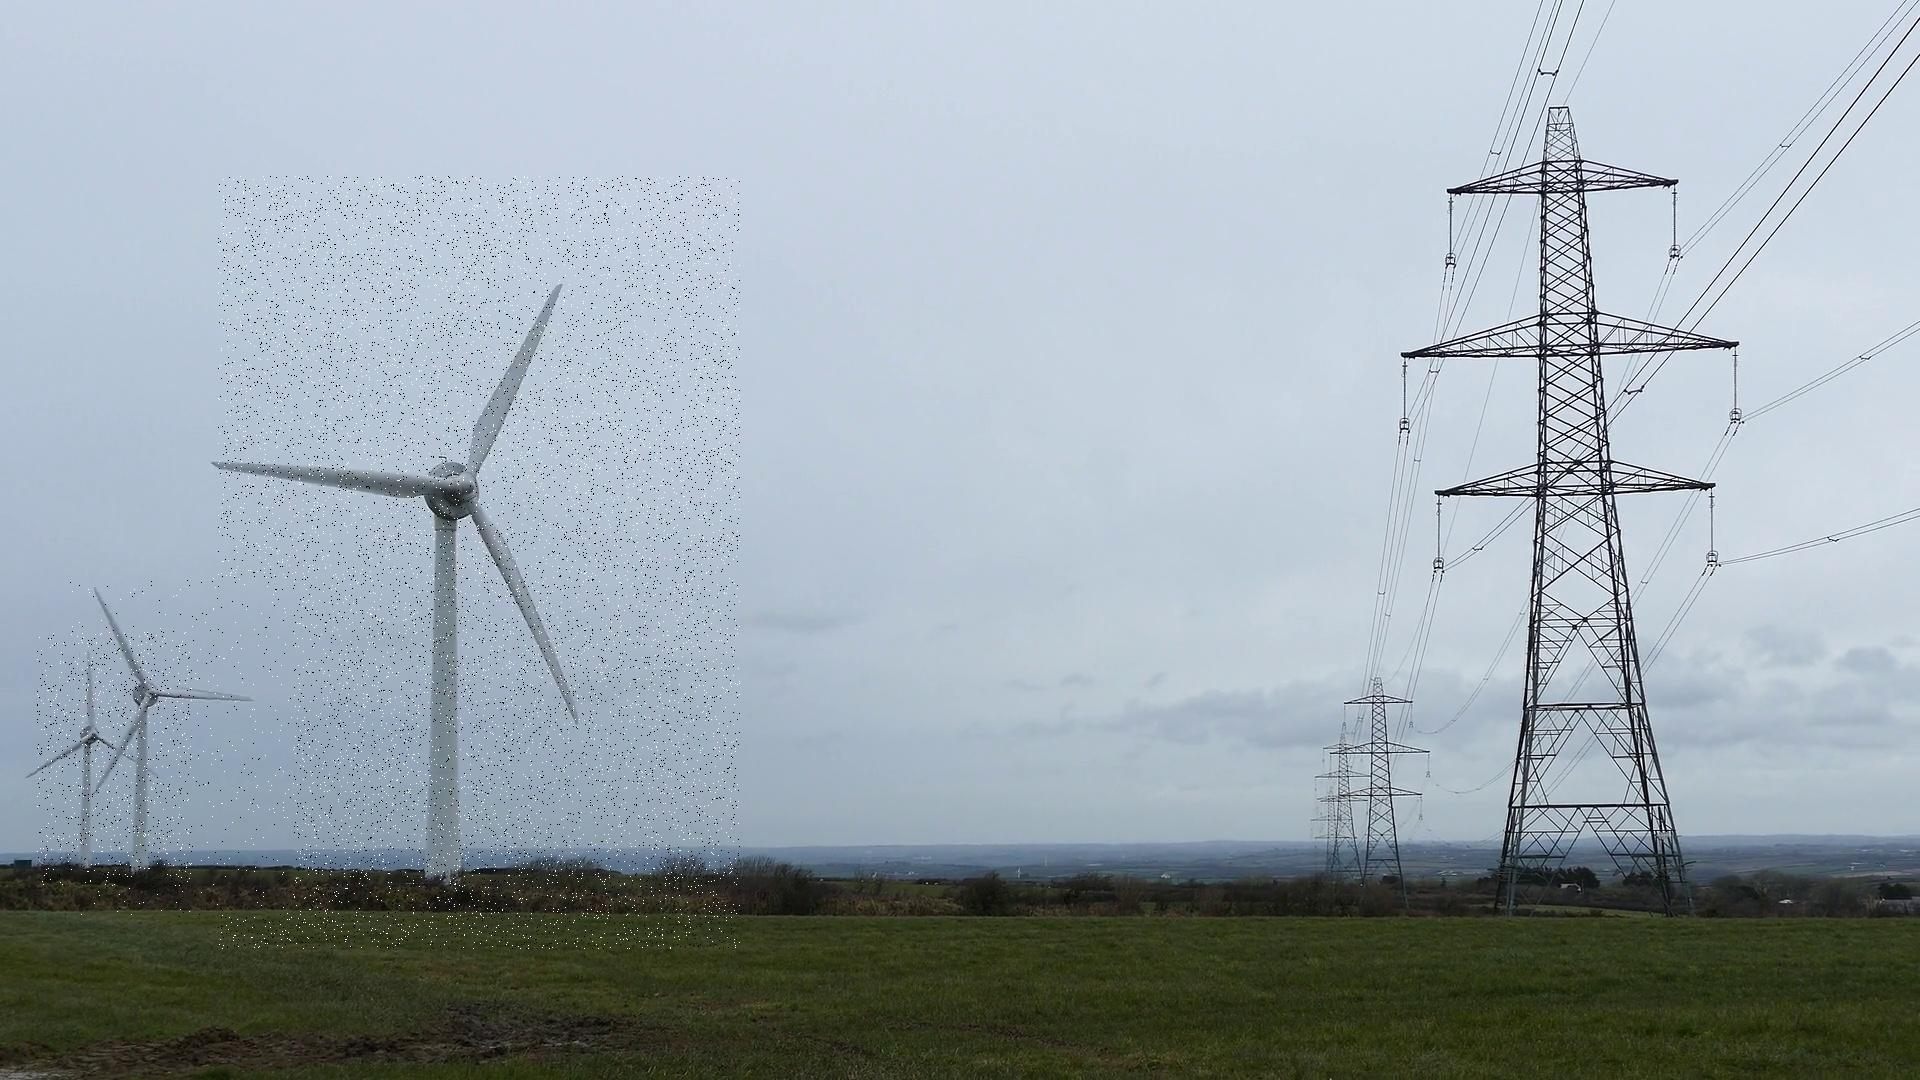cable tower: (1395, 102, 1741, 918), (1331, 676, 1431, 909), (1312, 731, 1375, 884), (1309, 793, 1356, 880)
turbine: (218, 175, 740, 949), (63, 579, 293, 918), (37, 633, 193, 887)
